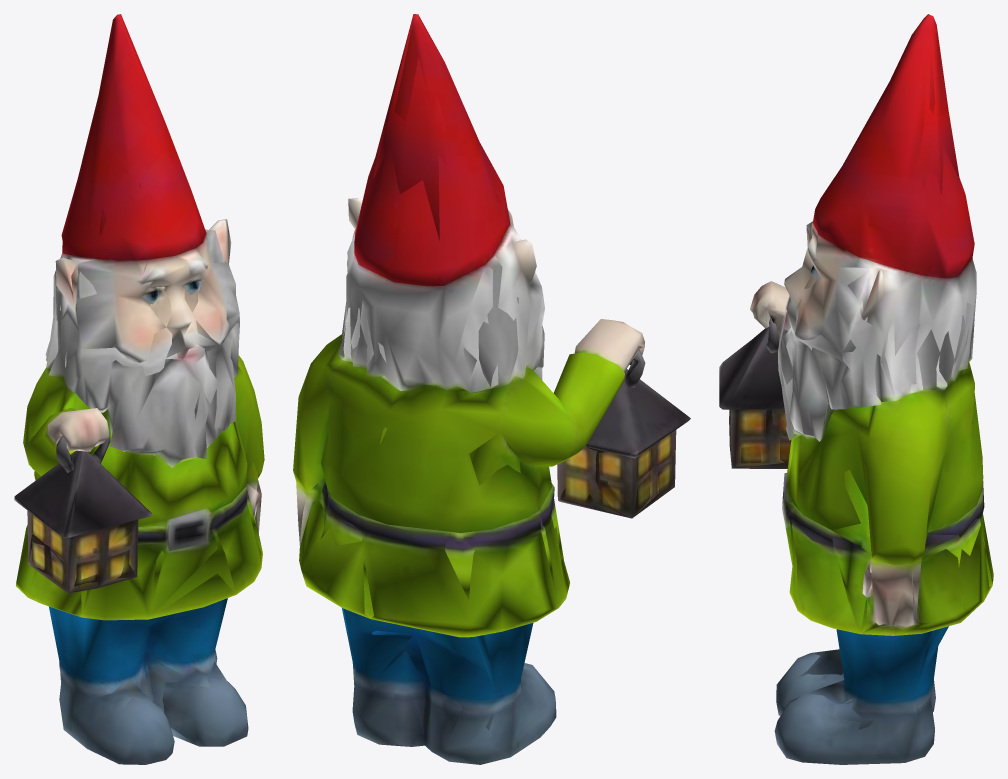
Rendered from garden_gnome.glb.
3 renders of one model, left to right at view 1: azimuth 30°, elevation 25°; view 2: azimuth 150°, elevation 25°; view 3: azimuth 270°, elevation 25°, orthographic. The views are drawn at different scales.
Visible parts, largest first — view 1: garden_gnome, garden_gnome_lo; view 2: garden_gnome, garden_gnome_lo; view 3: garden_gnome, garden_gnome_lo.
Part boxes in pixels (x1,y1,x2,y2): garden_gnome: (14,14,264,764); garden_gnome_lo: (27,96,262,746); garden_gnome: (293,14,690,764); garden_gnome_lo: (299,17,676,762); garden_gnome: (719,14,993,764); garden_gnome_lo: (734,17,992,729).
Size of the model in its own units: 0.256 by 0.5984 by 0.2087.
1 material, 1 textured.
